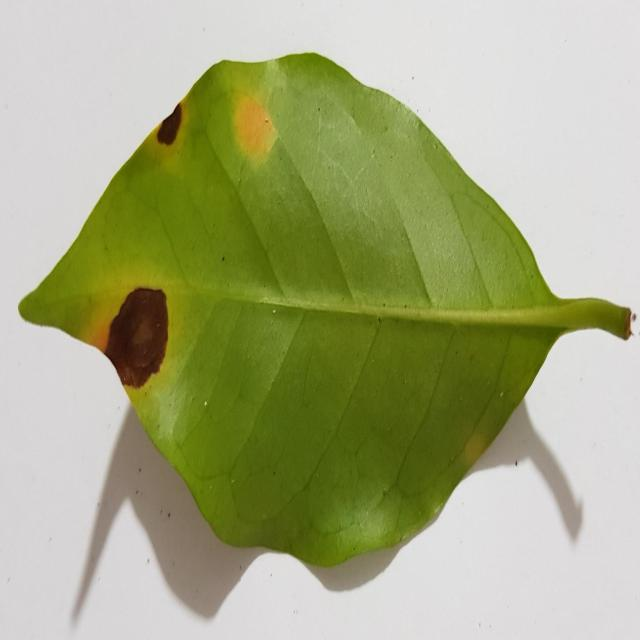Enfermedad-Mancha-de-hierro: (17, 53, 630, 594)
